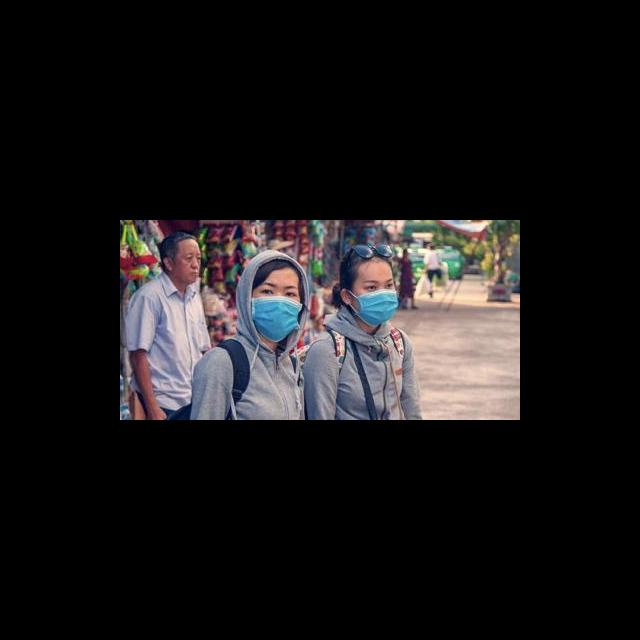Mask: (250, 296, 302, 341), (355, 290, 398, 328)
NO-Hardhat: (243, 250, 302, 281), (338, 248, 392, 276), (161, 232, 198, 249), (429, 244, 435, 248), (403, 249, 408, 253)
NO-Mask: (173, 264, 198, 283)
NO-Safety Vest: (136, 283, 203, 403), (212, 339, 301, 420), (322, 331, 401, 420), (400, 258, 412, 280), (426, 251, 440, 268)
Person: (302, 249, 423, 420), (189, 249, 308, 420), (124, 234, 212, 420), (398, 249, 420, 310), (423, 244, 442, 301)
